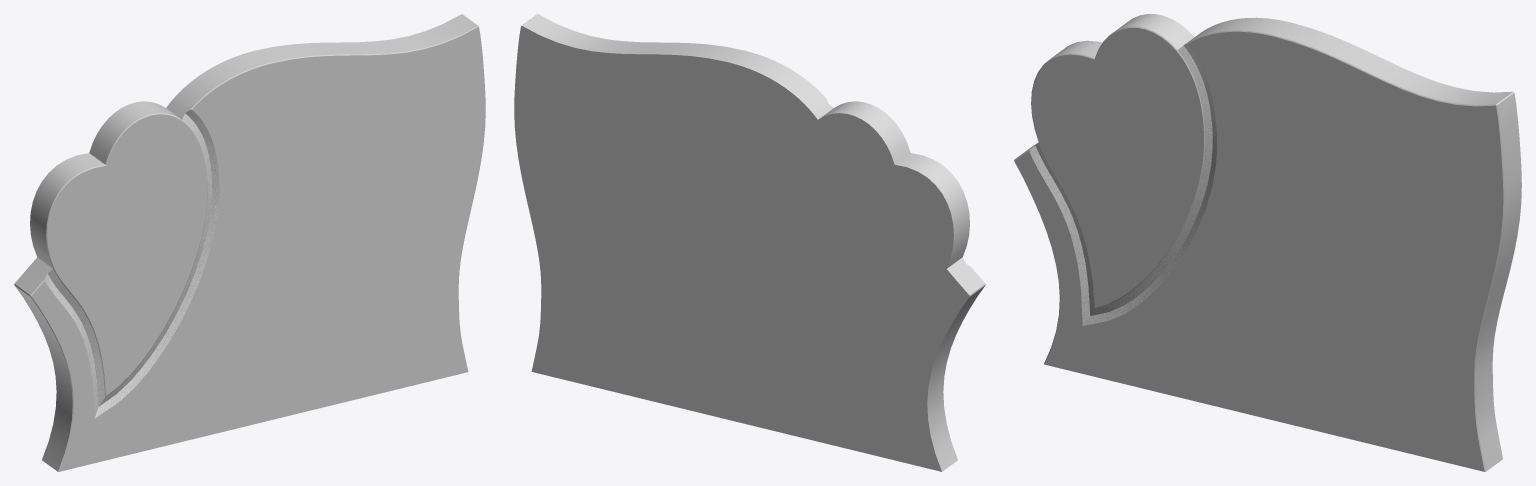
File: cn8f5d8c6c96_tkf.glb
3 renders of one model, left to right at view 1: azimuth 30°, elevation 25°; view 2: azimuth 150°, elevation 25°; view 3: azimuth 330°, elevation 25°, orthographic. The views are drawn at different scales.
Parts seen in each view (by area): view 1: Pam-g-157-2, Pam-g-157-2_2_notexture; view 2: Pam-g-157-2; view 3: Pam-g-157-2, Pam-g-157-2_2_notexture.
Part boxes in pixels (<box>): Pam-g-157-2: <box>14,14,485,471</box>; Pam-g-157-2_2_notexture: <box>45,109,219,418</box>; Pam-g-157-2: <box>514,14,985,471</box>; Pam-g-157-2: <box>1014,14,1521,471</box>; Pam-g-157-2_2_notexture: <box>1029,43,1217,325</box>.
Bounding box in the file's own units: 0.8 × 0.6 × 0.05.
1 material, 1 textured.
